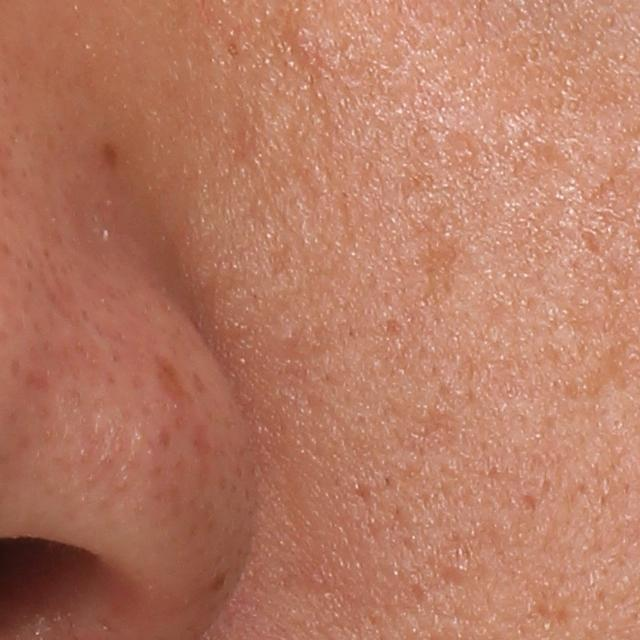atrophic_scar: (411, 241, 466, 310), (580, 229, 608, 261), (381, 317, 405, 337)
melasma: (153, 352, 194, 405)
nevus: (99, 140, 124, 161), (210, 572, 227, 590)
